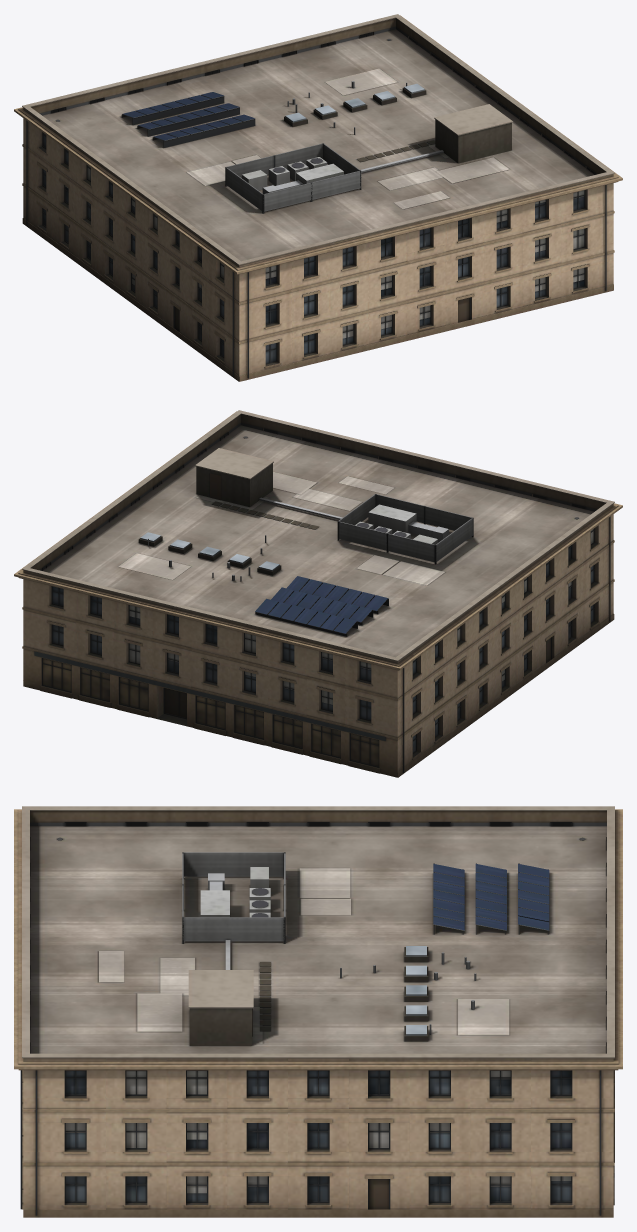
3 renders of one model, top to bottom at view 1: azimuth 30°, elevation 25°; view 2: azimuth 150°, elevation 25°; view 3: azimuth 270°, elevation 25°, orthographic. The views are drawn at different scales.
Visible parts, largest first — view 1: building; view 2: building; view 3: building.
Boxes of the visible parts, <box> form: building: <box>14,14,622,381</box>; building: <box>14,410,622,777</box>; building: <box>14,806,622,1217</box>.
Bounding box in the file's own units: 33 × 10.98 × 33.
1 material, 1 textured.
